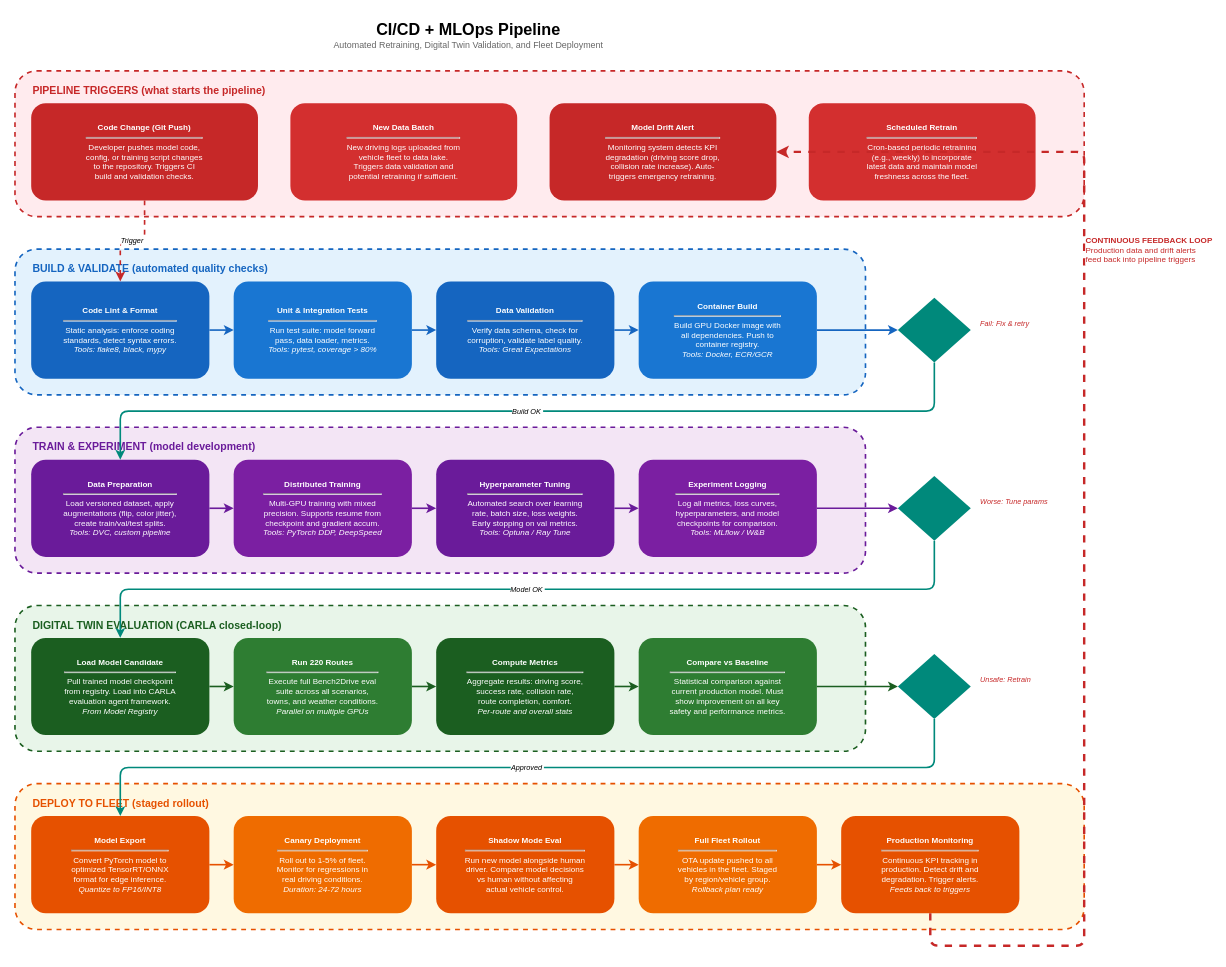
Some shapes in this 1226 by 967 pixel diagram are drawn without their labels. The shapes that lost their labels are listed below. From the top down, each one's centre as x and y in pixels, then its label:
At point 933,329: "PASS?".
At point 933,507: "BETTER?".
At point 933,686: "SAFE?".
